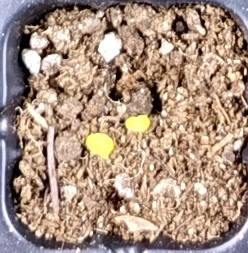pepper seed: (50, 48, 202, 181), (29, 54, 143, 212)
